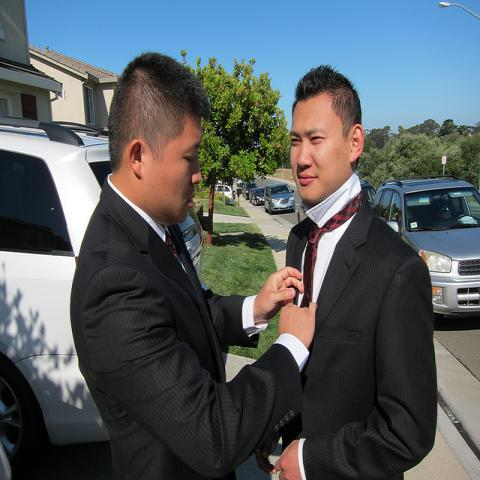car: (0, 115, 203, 470), (370, 176, 480, 331), (263, 182, 296, 215), (214, 183, 238, 205), (360, 182, 376, 206), (249, 188, 265, 206)
